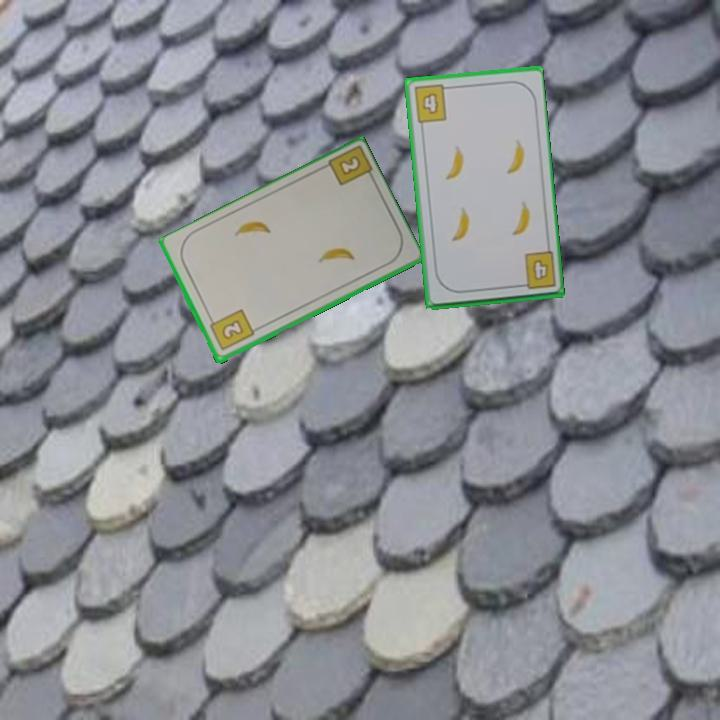2b: (206, 306, 257, 354), (335, 152, 364, 179)
4b: (514, 248, 558, 292), (410, 81, 453, 126)
